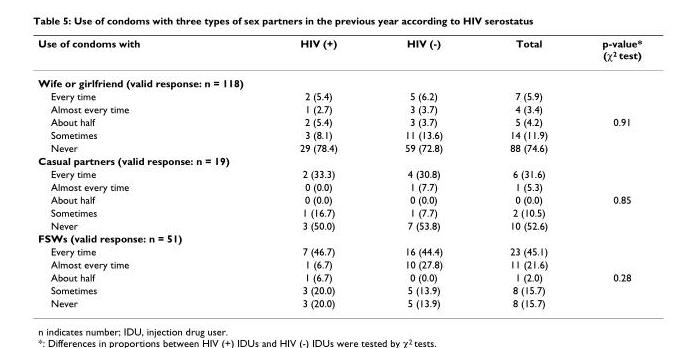table: (37, 36, 641, 308)
table column: (37, 36, 270, 308), (370, 36, 475, 308), (270, 36, 370, 308), (475, 36, 574, 308), (574, 36, 641, 308)
table column header: (37, 36, 641, 68)
table projected row header: (37, 68, 641, 89), (37, 153, 641, 166), (37, 231, 641, 244)
table row: (37, 36, 641, 68), (37, 68, 641, 89), (37, 89, 641, 102), (37, 102, 641, 115), (37, 115, 641, 128), (37, 128, 641, 141), (37, 153, 641, 166), (37, 166, 641, 179), (37, 179, 641, 192), (37, 192, 641, 205), (37, 205, 641, 218), (37, 218, 641, 231), (37, 231, 641, 244), (37, 244, 641, 257), (37, 257, 641, 270), (37, 270, 641, 283), (37, 283, 641, 296), (37, 141, 641, 153), (37, 296, 641, 308)
